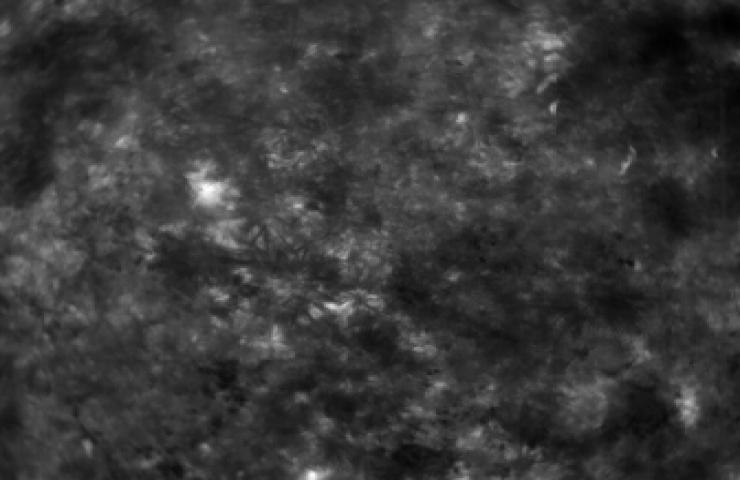landmines: (187, 161, 241, 210)
